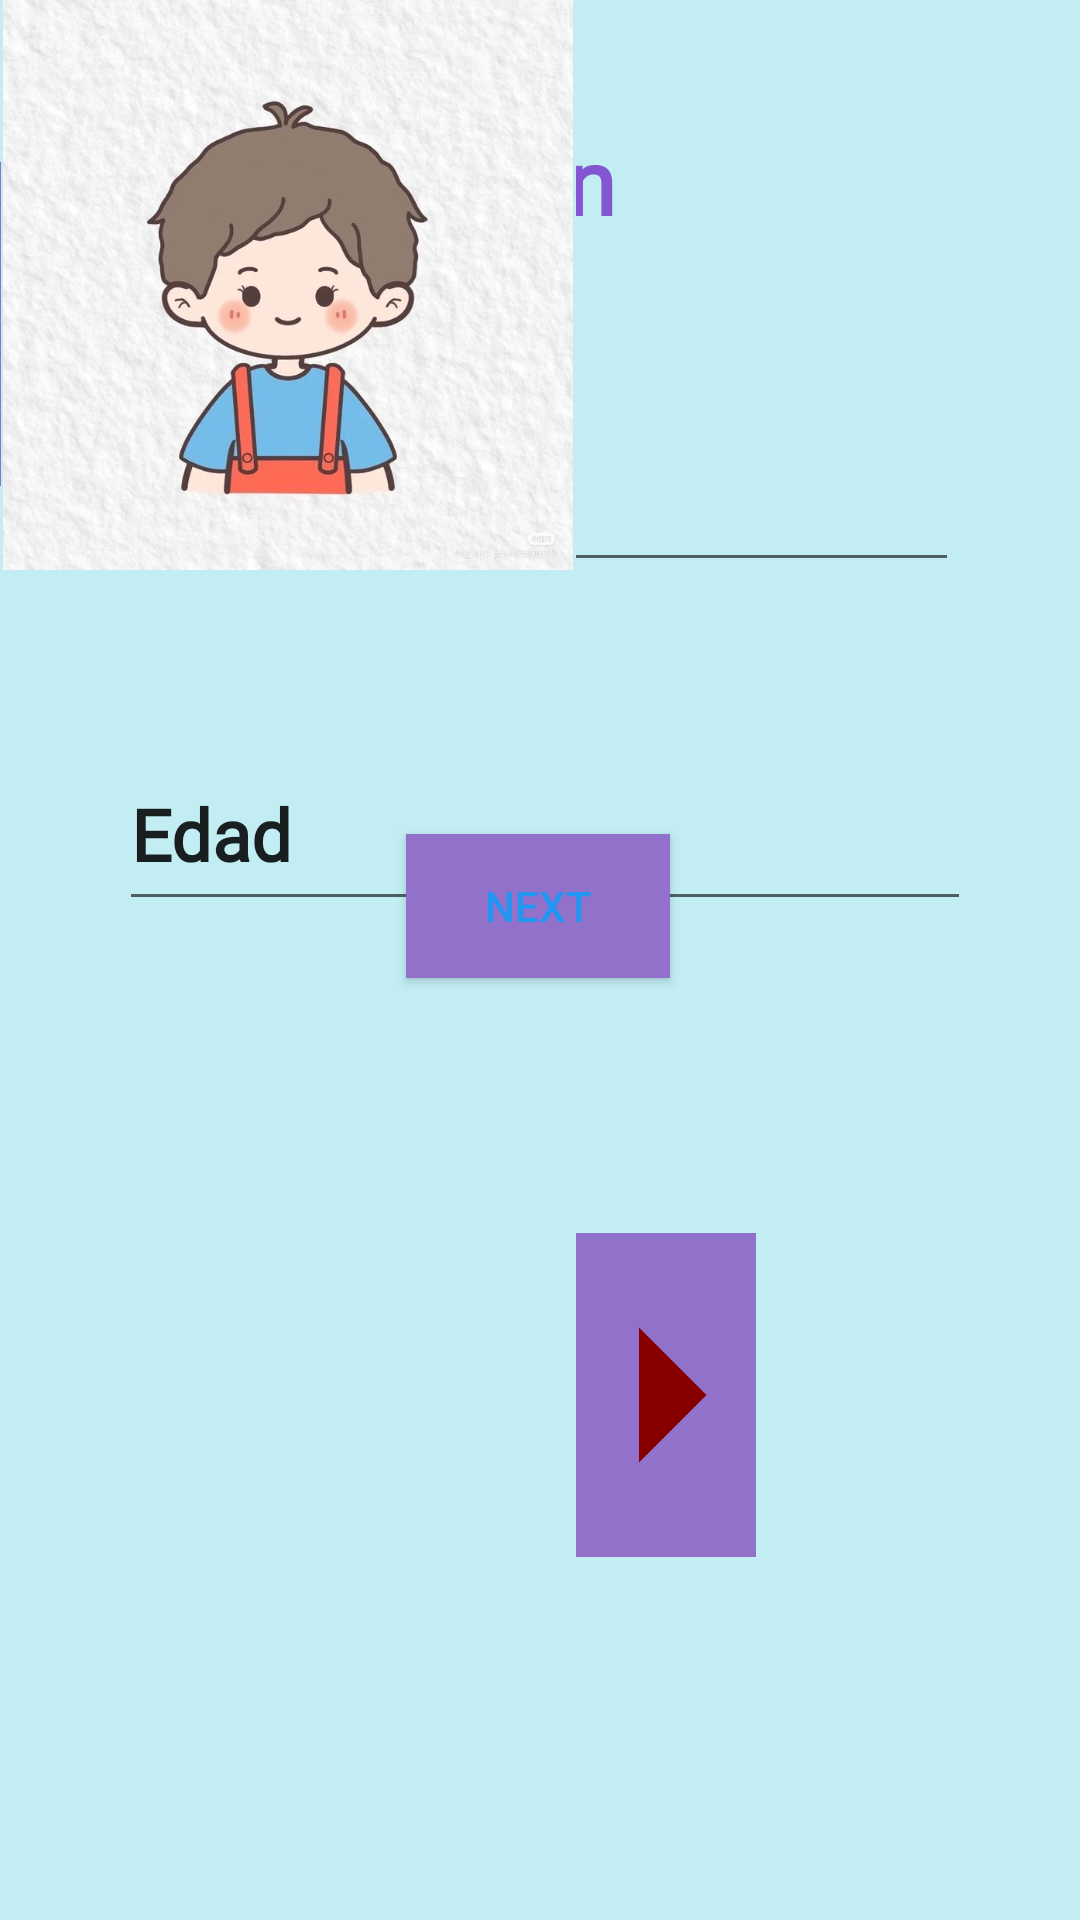

Screen size 1080x1920. Icon name, then its box in pixels as bbox=(x1, y1, x2, y2):
Botón derecho: bbox=(576, 1233, 756, 1557)
